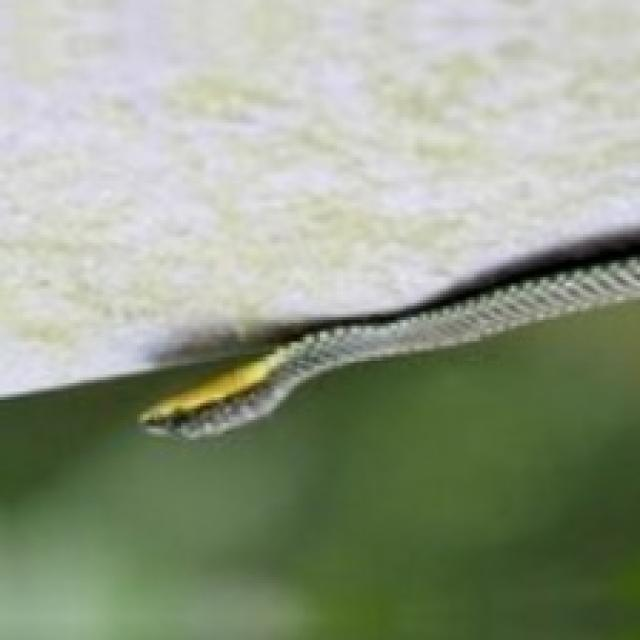paradise tree snake: (137, 229, 637, 437)
